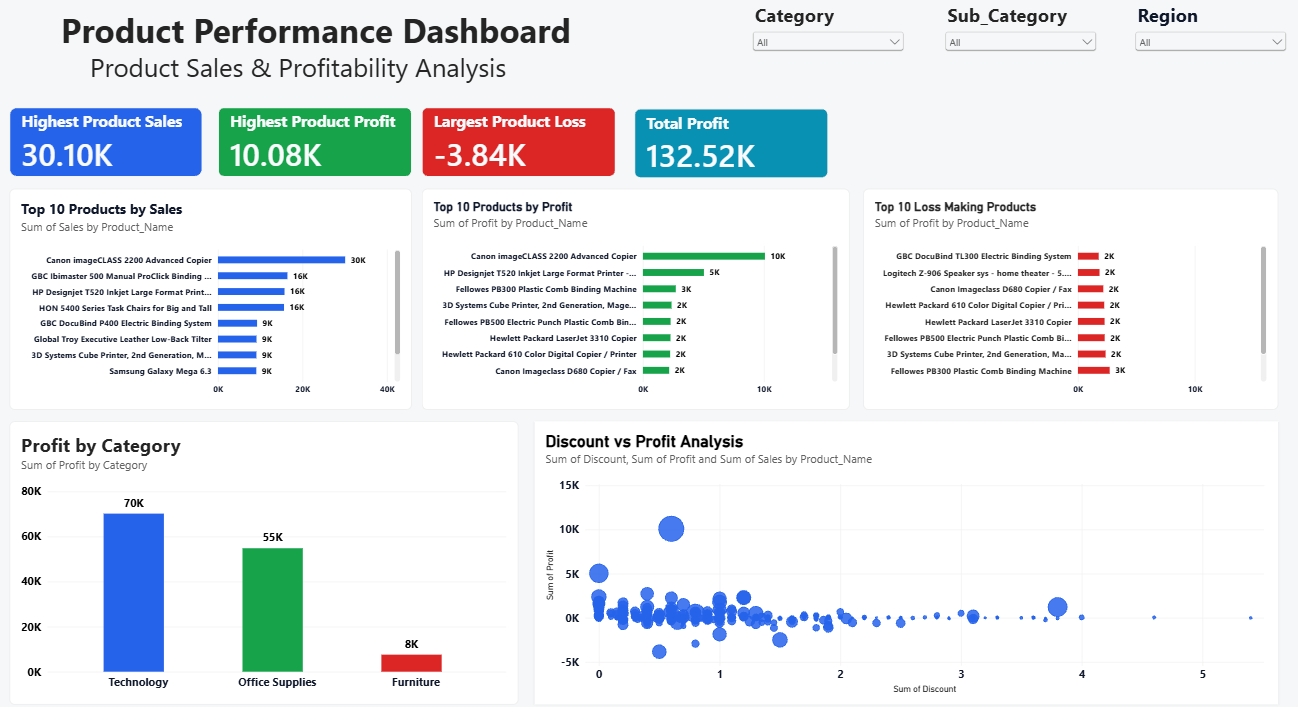

This screenshot's page, from the dashboard's own definition file:
{"tool":"powerbi","page":{"name":"Product Performance Dashboard","canvas":[1920,1080],"ordinal":1},"visuals":[{"type":"textbox","box":[10.9,0,1237.8,148.4],"z":0},{"type":"textbox","box":[65.1,12.7,950.1,135.7],"z":1000},{"type":"cardVisual","fields":{"Data":["Superstore Cleaned 1.Highest Product Sales"]},"box":[32.6,170.1,279,100],"z":2000},{"type":"cardVisual","fields":{"Data":["Superstore Cleaned 1.Highest Product Profit"]},"box":[334.8,170.1,280,100],"z":3000},{"type":"cardVisual","fields":{"Data":["Superstore Cleaned 1.Largest Product Loss"]},"box":[629.8,170.1,280,100],"z":4000},{"type":"cardVisual","fields":{"Data":["Superstore Cleaned 1.Total Profit"]},"box":[937.4,171.9,280,100],"z":5000},{"type":"clusteredBarChart","title":"Top 10 Products by Sales","fields":{"Category":["Superstore Cleaned 1.Product_Name"],"Y":["Sum(Superstore Cleaned 1.Sales)"]},"box":[32.6,287.7,582.7,320.3],"z":6000},{"type":"clusteredBarChart","title":"Top 10 Products by Profit","fields":{"Category":["Superstore Cleaned 1.Product_Name"],"Y":["Sum(Superstore Cleaned 1.Profit)"]},"box":[629.8,287.7,618.9,320.3],"z":7000},{"type":"clusteredBarChart","title":"Top 10 Loss Making Products","fields":{"Category":["Superstore Cleaned 1.Product_Name"],"Y":["Sum(Superstore Cleaned 1.Profit)"]},"box":[1268.6,287.7,600.8,320.3],"z":8000},{"type":"scatterChart","title":"Discount vs Profit Analysis","fields":{"Category":["Superstore Cleaned 1.Product_Name"],"Size":["Sum(Superstore Cleaned 1.Sales)"],"X":["Sum(Superstore Cleaned 1.Discount)"],"Y":["Sum(Superstore Cleaned 1.Profit)"]},"box":[792.6,624.3,1076.7,410.8],"z":9000},{"type":"slicer","fields":{"Values":["Superstore Cleaned 1.Category"]},"box":[1103.9,18.1,228,132.1],"z":10000},{"type":"slicer","fields":{"Values":["Superstore Cleaned 1.Sub_Category"]},"box":[1382.6,18.1,228,132],"z":11000},{"type":"slicer","fields":{"Values":["Superstore Cleaned 1.Region"]},"box":[1657.6,18.1,228,132],"z":12000},{"type":"clusteredColumnChart","title":"Profit by Category","fields":{"Category":["Superstore Cleaned 1.Category"],"Y":["Sum(Superstore Cleaned 1.Profit)"]},"box":[32.6,624.3,736.5,410.8],"z":12001}]}

Visuals, with their boxes on the page's 1920x1080 design canvas (x1, y1, x2, y2). These are canvas units, not pixel positions in the 1298x707 screenshot, which may show the page scaled, cropped or inside an application window:
textbox: pyautogui.locateOnScreen(11, 0, 1249, 148)
textbox: pyautogui.locateOnScreen(65, 13, 1015, 148)
cardVisual - Superstore Cleaned 1.Highest Product Sales: pyautogui.locateOnScreen(33, 170, 312, 270)
cardVisual - Superstore Cleaned 1.Highest Product Profit: pyautogui.locateOnScreen(335, 170, 615, 270)
cardVisual - Superstore Cleaned 1.Largest Product Loss: pyautogui.locateOnScreen(630, 170, 910, 270)
cardVisual - Superstore Cleaned 1.Total Profit: pyautogui.locateOnScreen(937, 172, 1217, 272)
"Top 10 Products by Sales" clusteredBarChart: pyautogui.locateOnScreen(33, 288, 615, 608)
"Top 10 Products by Profit" clusteredBarChart: pyautogui.locateOnScreen(630, 288, 1249, 608)
"Top 10 Loss Making Products" clusteredBarChart: pyautogui.locateOnScreen(1269, 288, 1869, 608)
"Discount vs Profit Analysis" scatterChart: pyautogui.locateOnScreen(793, 624, 1869, 1035)
slicer - Superstore Cleaned 1.Category: pyautogui.locateOnScreen(1104, 18, 1332, 150)
slicer - Superstore Cleaned 1.Sub_Category: pyautogui.locateOnScreen(1383, 18, 1611, 150)
slicer - Superstore Cleaned 1.Region: pyautogui.locateOnScreen(1658, 18, 1886, 150)
"Profit by Category" clusteredColumnChart: pyautogui.locateOnScreen(33, 624, 769, 1035)
